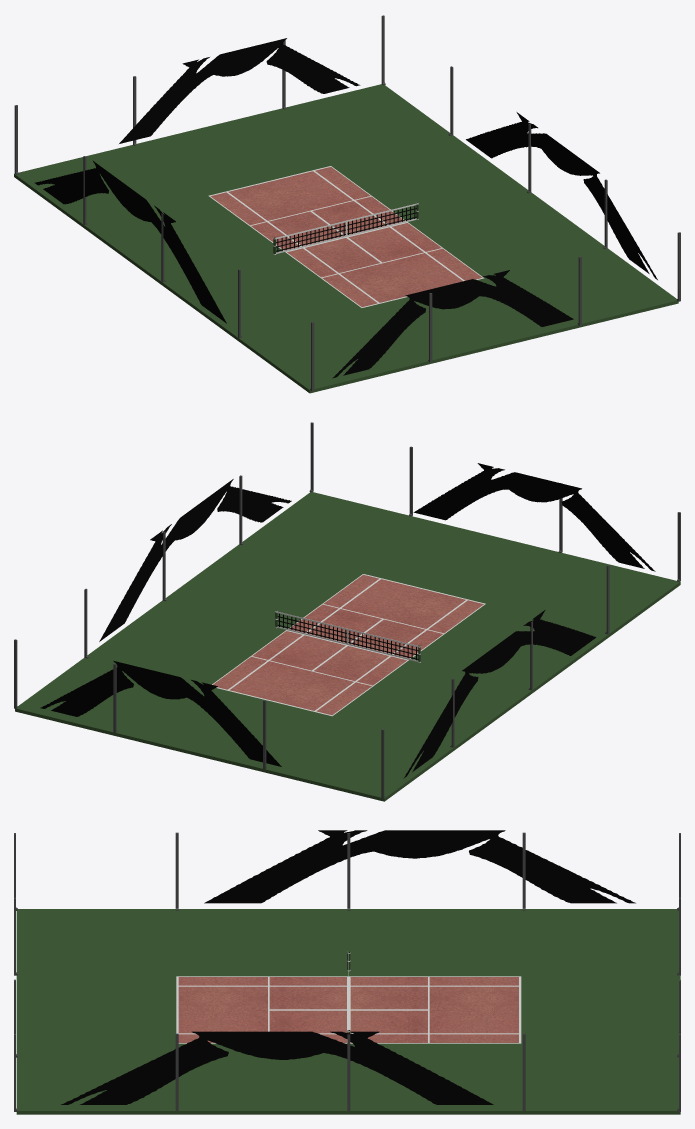
The model's file is tennis_court.fbx.
The picture shows the model from 3 angles, top to bottom: view 1: azimuth 30°, elevation 25°; view 2: azimuth 150°, elevation 25°; view 3: azimuth 270°, elevation 25°; orthographic projection. The views are drawn at different scales.
Visible parts, largest first — view 1: pPlane1, pCube5, pPlane2; view 2: pPlane1, pCube5, pPlane2; view 3: pPlane1, pCube5, pCube2, pCube3, pCube1.
Boxes of the visible parts, x1=… form: pPlane1: x1=14, y1=84, x2=678, y2=393; pCube5: x1=34, y1=38, x2=657, y2=378; pPlane2: x1=276, y1=205, x2=416, y2=252; pPlane1: x1=15, y1=492, x2=680, y2=801; pCube5: x1=40, y1=463, x2=655, y2=778; pPlane2: x1=277, y1=613, x2=418, y2=660; pPlane1: x1=16, y1=909, x2=680, y2=1114; pCube5: x1=61, y1=830, x2=635, y2=1104; pCube2: x1=522, y1=832, x2=525, y2=1110; pCube3: x1=175, y1=832, x2=178, y2=1110; pCube1: x1=347, y1=833, x2=350, y2=1110.
Size of the model in its own units: 108 by 20.6 by 151.
Materials: 7 (1 with a texture image).
